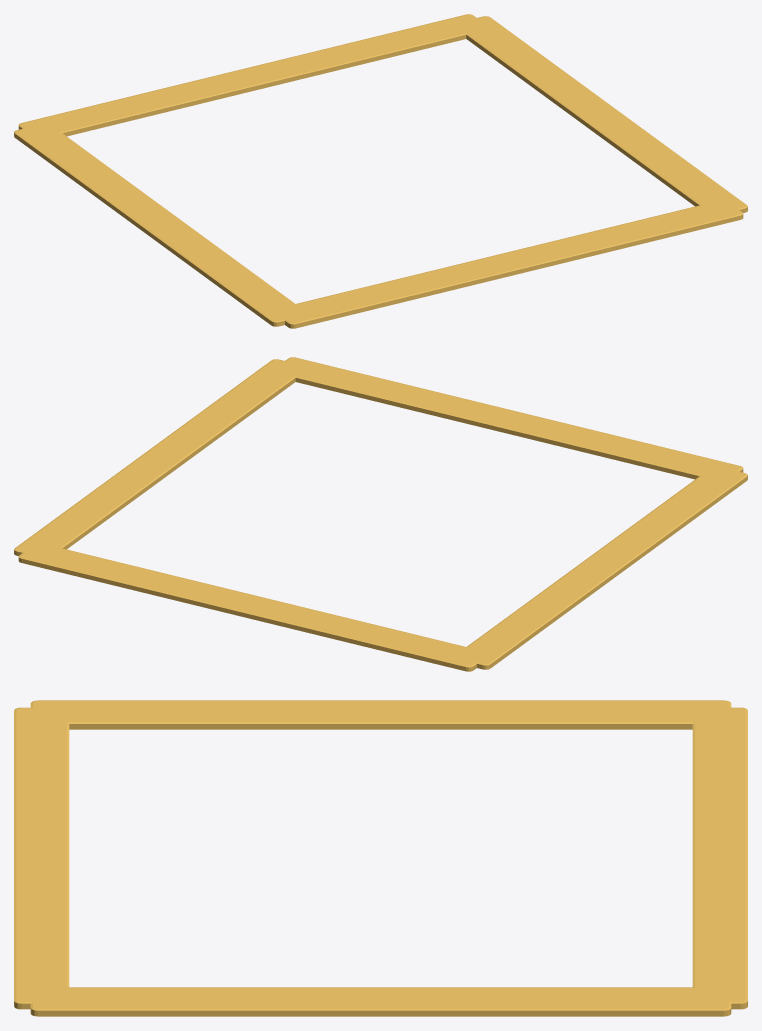
The model's file is tile_select_glow.glb.
3 views of the same model, one above another, from view 1: azimuth 30°, elevation 25°; view 2: azimuth 150°, elevation 25°; view 3: azimuth 270°, elevation 25° (orthographic). The views are drawn at different scales.
Parts seen in each view (by area): view 1: model; view 2: model; view 3: model.
Part boxes in pixels (box(x1,y1,x2,y2)): model: box(14, 14, 747, 328); model: box(14, 357, 747, 671); model: box(14, 700, 747, 1016).
Size of the model in its own units: 2 by 0.02 by 2.
